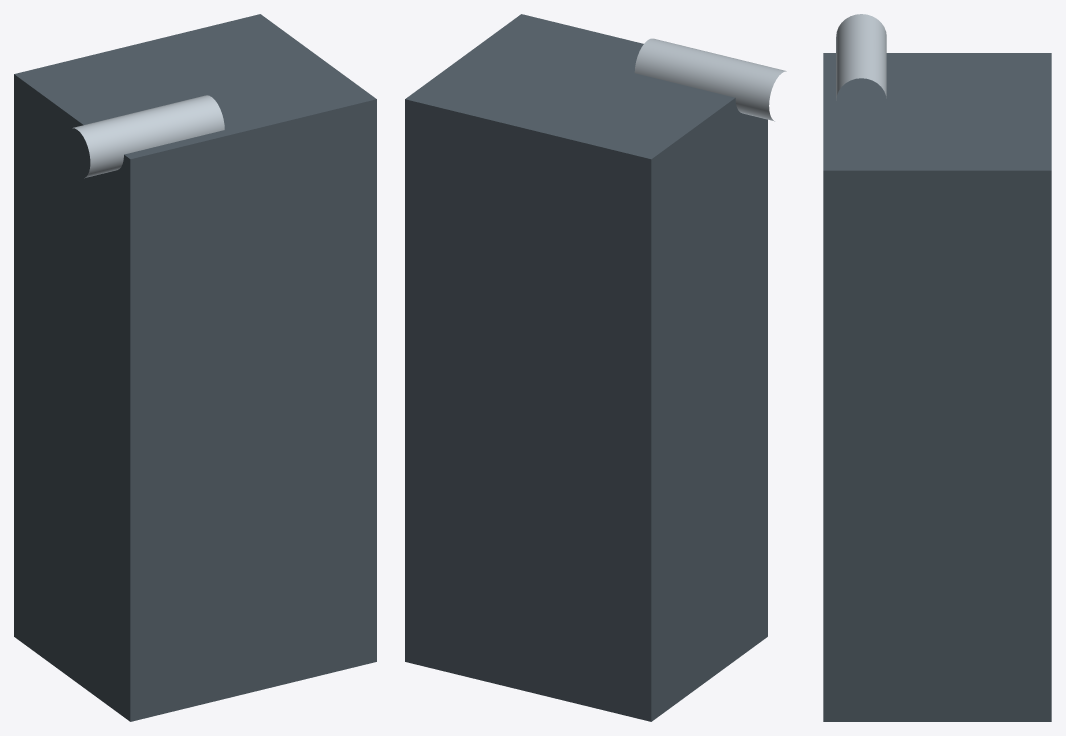
Rendered from server.glb.
The picture shows the model from 3 angles, left to right: view 1: azimuth 30°, elevation 25°; view 2: azimuth 150°, elevation 25°; view 3: azimuth 270°, elevation 25°; orthographic projection. The views are drawn at different scales.
Visible parts, largest first — view 1: rack_frame, rack_power; view 2: rack_frame, rack_power; view 3: rack_frame, rack_power.
Boxes of the visible parts, x1,y1,x2,y2 form: rack_frame: [14, 14, 376, 721]; rack_power: [72, 95, 224, 178]; rack_frame: [405, 14, 767, 721]; rack_power: [634, 38, 786, 121]; rack_frame: [823, 53, 1051, 721]; rack_power: [836, 14, 886, 100].
Bounding box in the file's own units: 0.8514 × 1.7 × 0.613.
